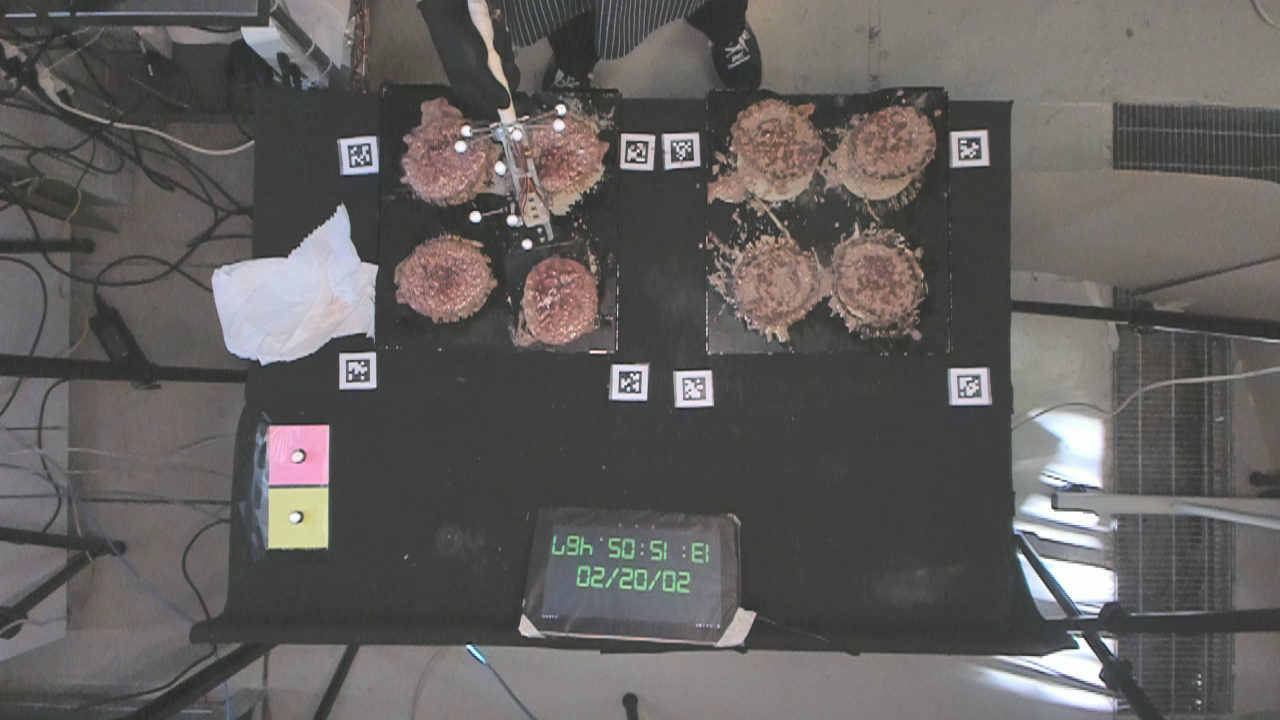hamburger: (833, 231, 923, 327), (398, 242, 494, 326), (401, 112, 482, 206), (735, 241, 820, 326), (846, 102, 936, 180), (736, 98, 823, 176), (523, 257, 599, 346)
marker: (265, 423, 330, 486)
